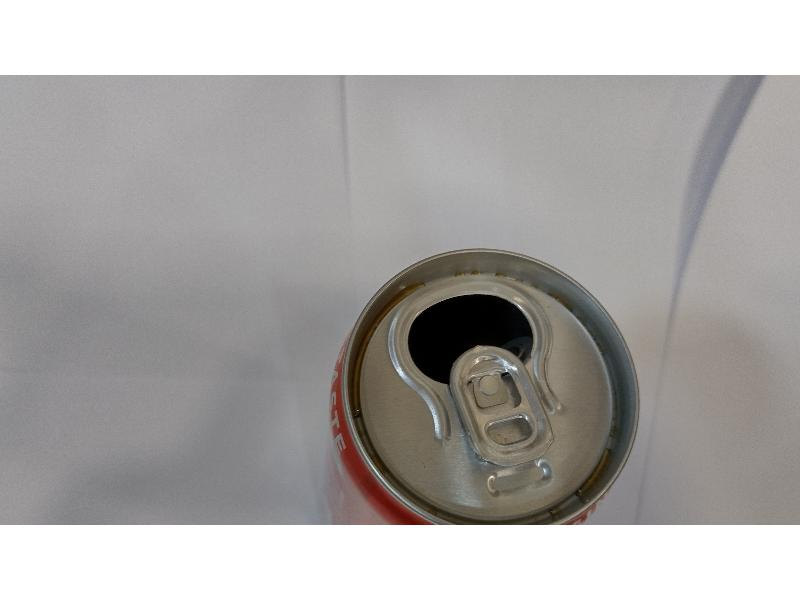can: (326, 246, 643, 521)
